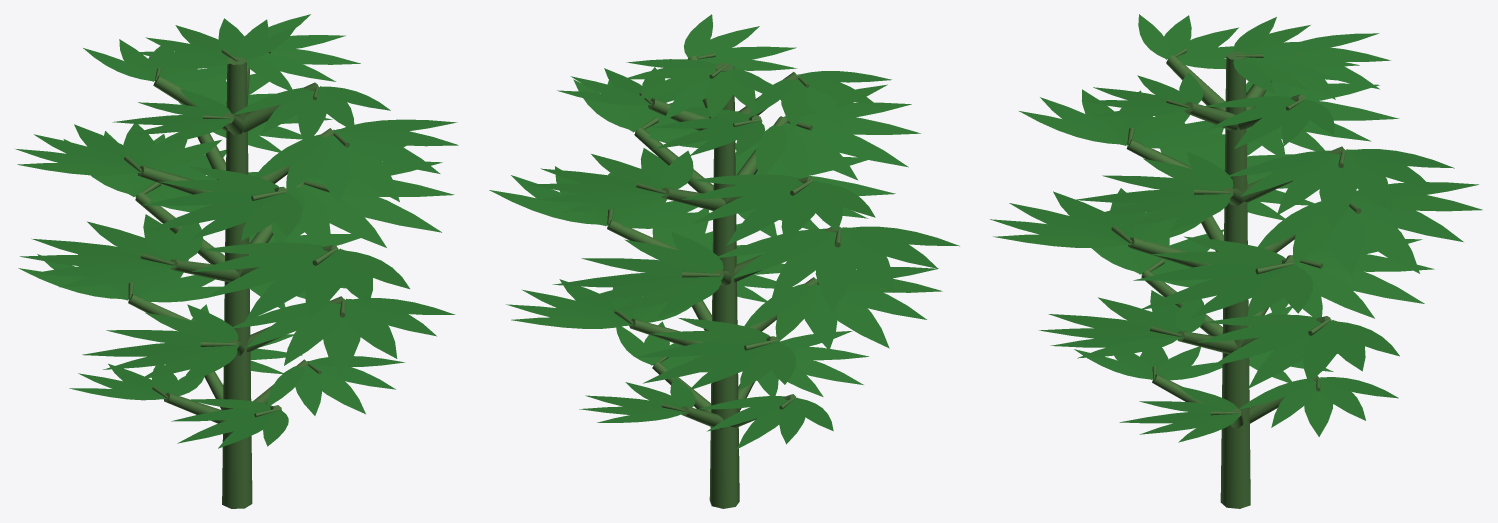
The model's file is plant-veg.glb.
The picture shows the model from 3 angles, left to right: view 1: azimuth 30°, elevation 25°; view 2: azimuth 150°, elevation 25°; view 3: azimuth 270°, elevation 25°; orthographic projection. The views are drawn at different scales.
Visible parts, largest first — view 1: LeafBlade (×94), Branch (×8); view 2: LeafBlade (×91), Branch (×6); view 3: LeafBlade (×93), Branch (×7).
Part boxes in pixels (x1=…): LeafBlade (×94): x1=14, y1=18, x2=458, y2=448; Branch (×8): x1=128, y1=56, x2=318, y2=508; LeafBlade (×91): x1=489, y1=14, x2=959, y2=449; Branch (×6): x1=607, y1=63, x2=739, y2=508; LeafBlade (×93): x1=990, y1=14, x2=1482, y2=442; Branch (×7): x1=1126, y1=51, x2=1250, y2=508.
Bounding box in the file's own units: 0.7833 × 0.7833 × 0.7833.
